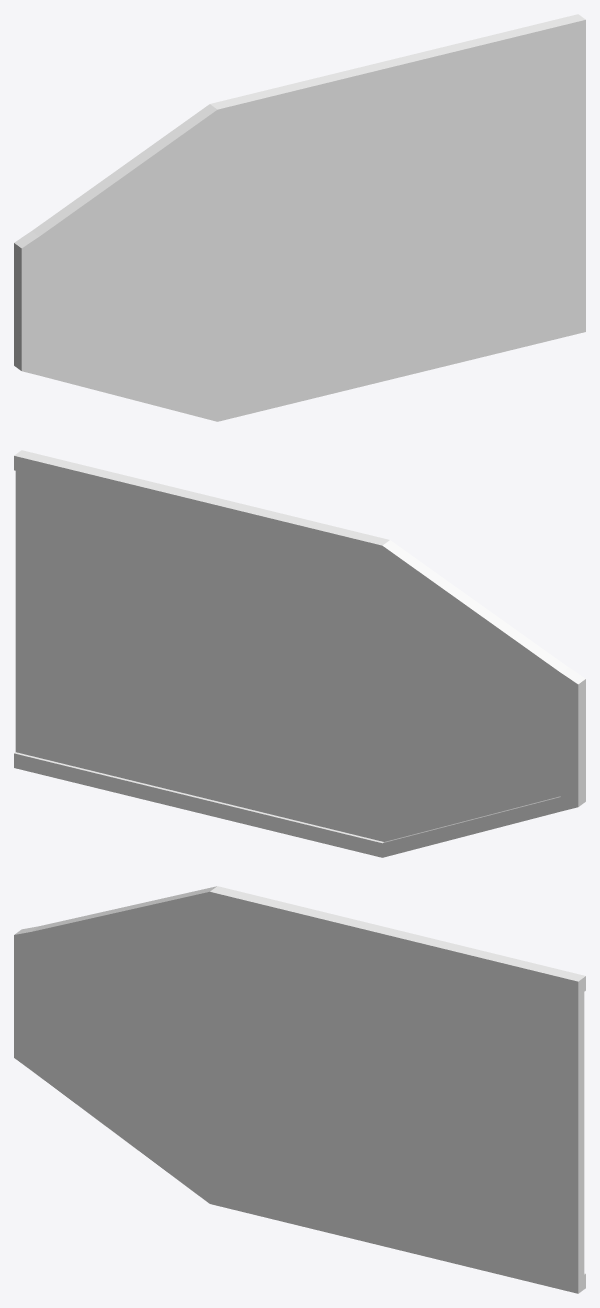
File: venice_road_14.fbx
3 renders of one model, top to bottom at view 1: azimuth 30°, elevation 25°; view 2: azimuth 150°, elevation 25°; view 3: azimuth 330°, elevation 25°, orthographic.
Visible parts, largest first — view 1: Cube.301; view 2: Cube.301; view 3: Cube.301.
Part boxes in pixels (<box>): Cube.301: <box>14,14,585,421</box>; Cube.301: <box>14,450,585,857</box>; Cube.301: <box>14,886,585,1293</box>.
Bounding box in the file's own units: 2685 × 1420 × 63.5.
